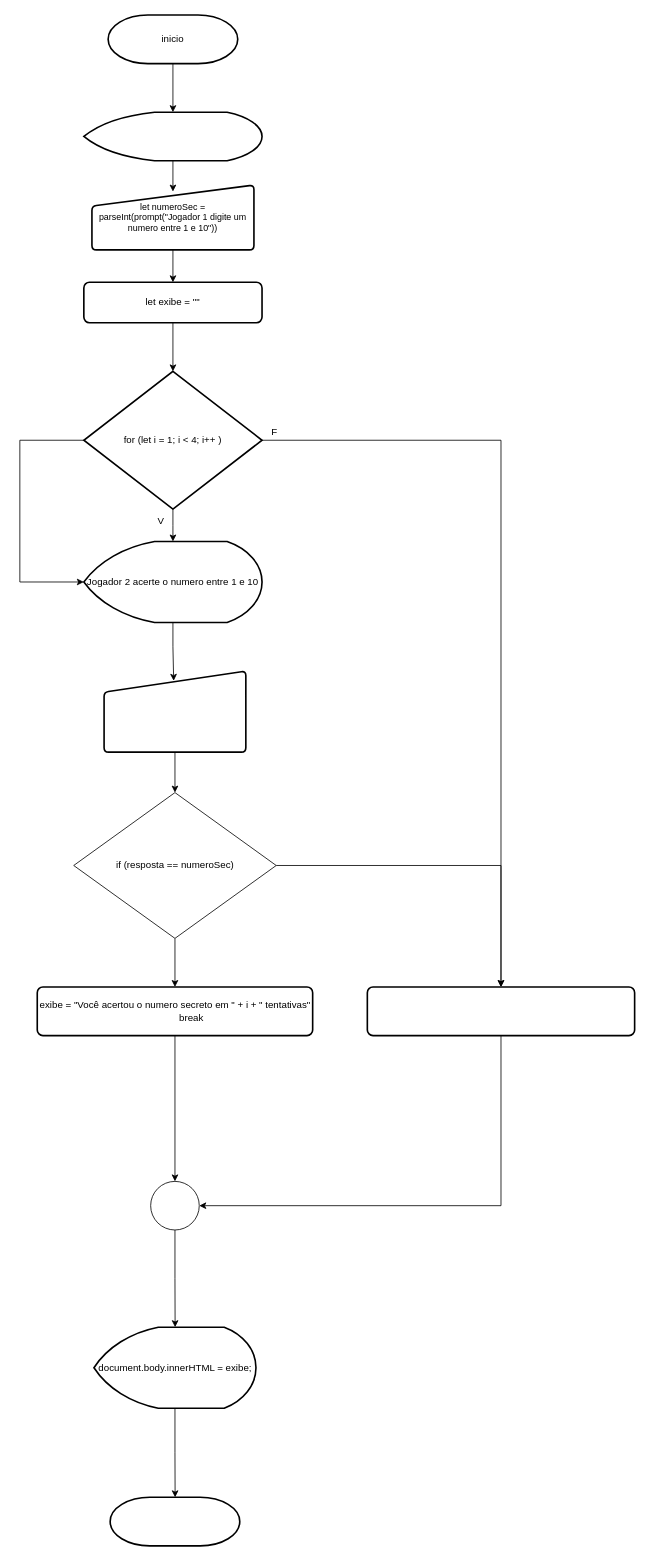
The diagram is 650 pixels wide and 1560 high, and some of its shapes have lost their labels. The shapes that lost their labels are listed below. From the top down, each one's centre as x and y in pixels, then its label:
point (172, 136): Jogador 1 digite um numero entre 1 e 10
point (174, 711): let resposta = parseInt(prompt("Jogador 2 acerte o numero entre 1 e 10"))
point (500, 1011): exibe = "Você perdeu, tente novamente"
point (174, 1521): Fim
